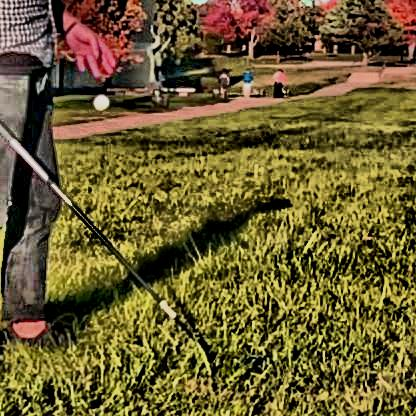golfball: (88, 89, 109, 108)
